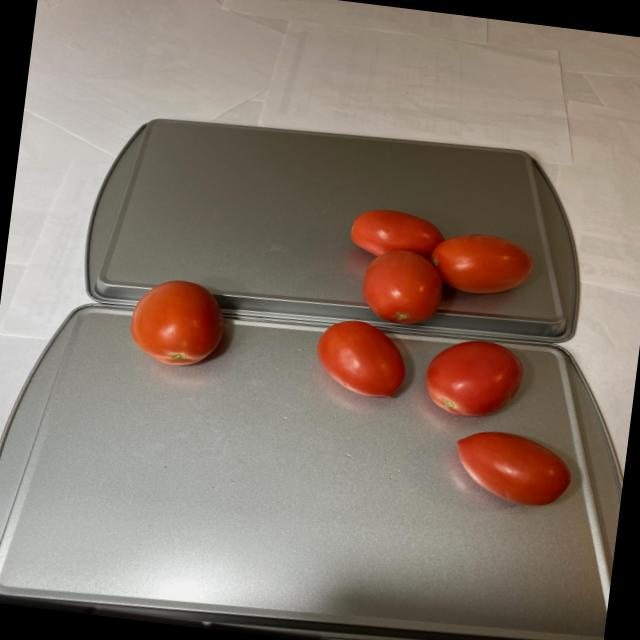tomato: (308, 202, 608, 522), (124, 272, 234, 374)
